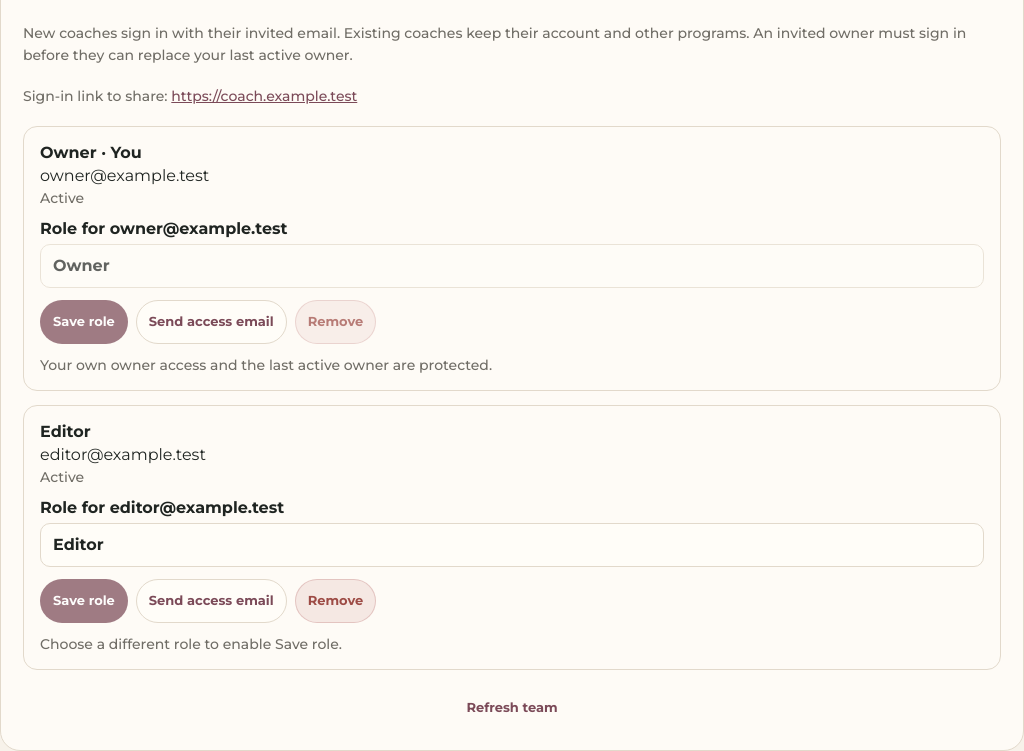
it: WorkspaceCollaborators › preserves a selected role after conflict and releases busy controls
(page scrolled)
Select "Reviewer" in the dropdown labelled "Role for editor@example.test" at point(512, 545), box [40,523,984,567]
(page scrolled)
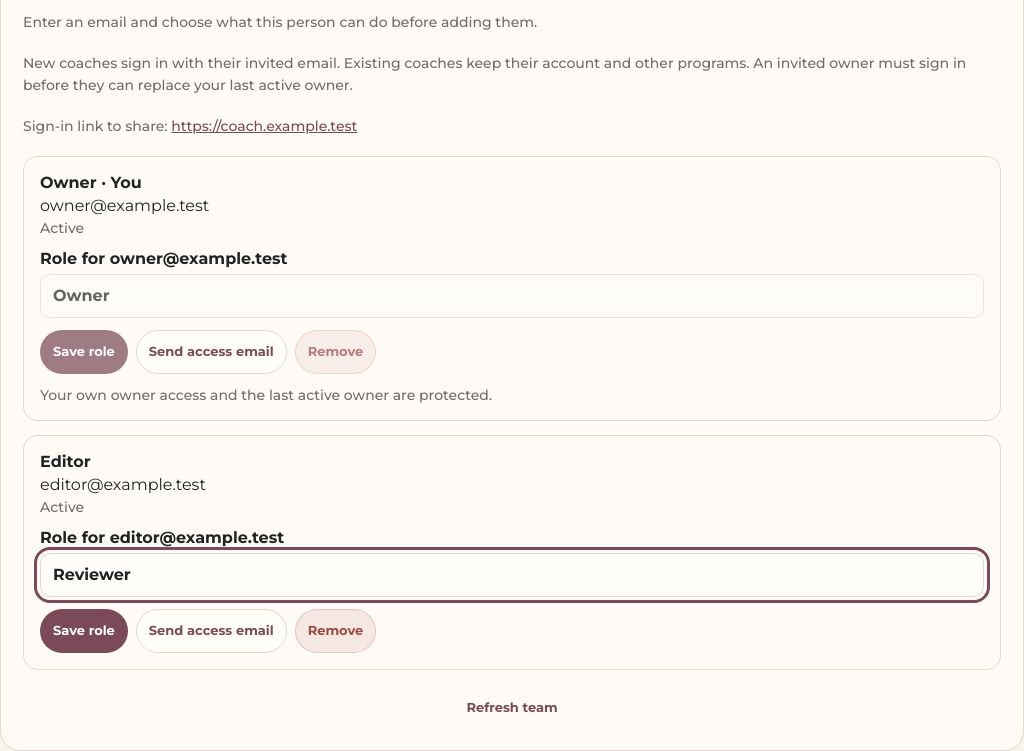
Click the 2nd button "Save role".
click(84, 631)  # box [40,609,128,653]
(page scrolled)
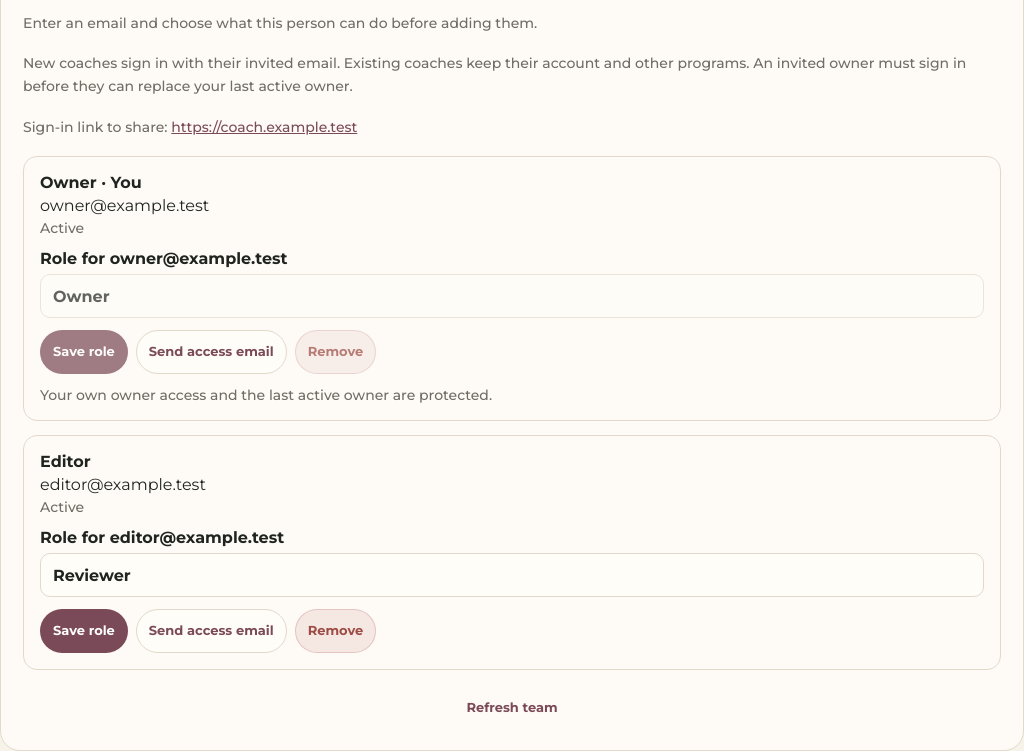
Expected: the 2nd button "Save role" is enabled, [40,609,128,653]
Click the button "Refresh team".
click(512, 708)  # box [23,688,1001,728]
(page scrolled)
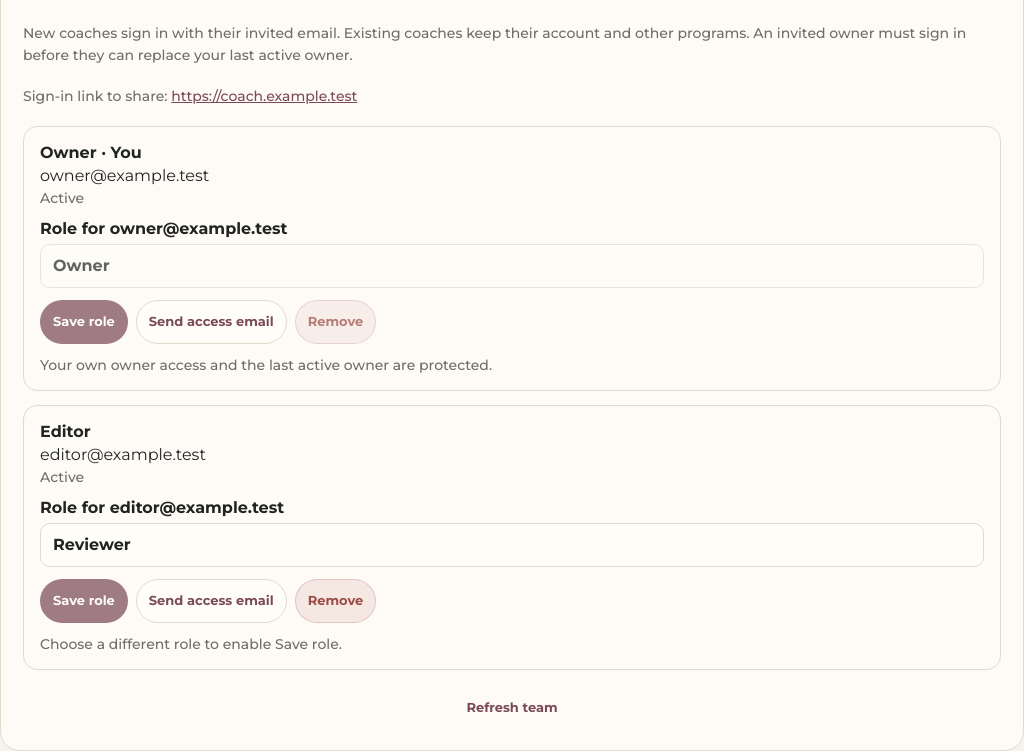
Expected: the dropdown labelled "Role for editor@example.test" shows "Reviewer", [40,523,984,567]
Expected: the 2nd button "Save role" is disabled, [40,579,128,623]
